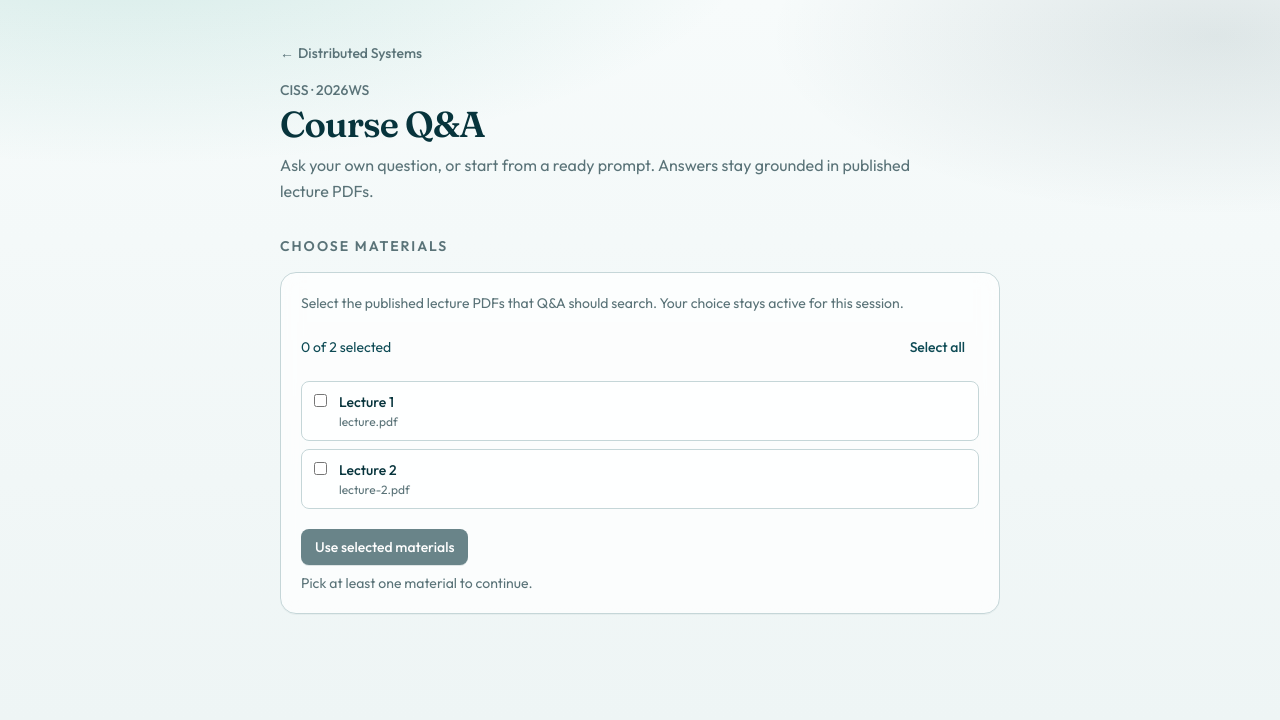
course Q&A page › keeps the current Q&A material selection when changing materials
Click the checkbox labelled "Lecture 1 lecture.pdf".
click(320, 400)  # box left=314, top=394, right=327, bottom=407
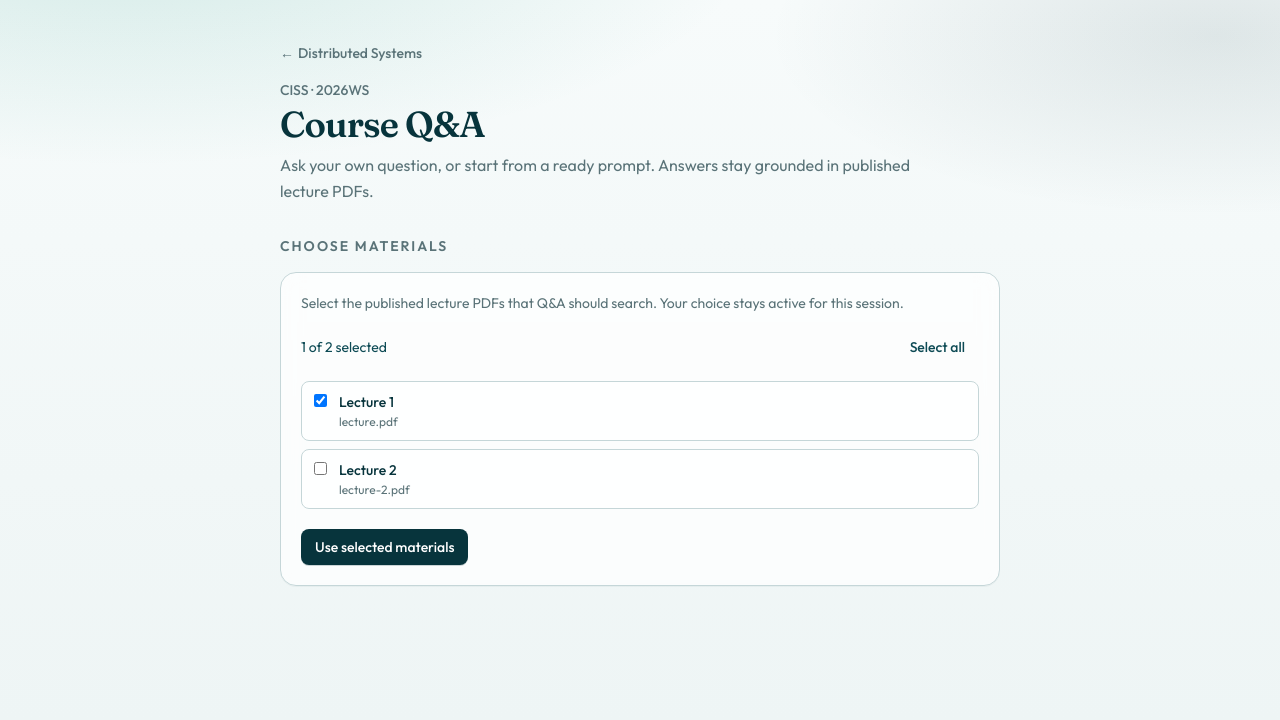
Click the button "Use selected materials".
click(385, 547)  # box left=301, top=529, right=468, bottom=565
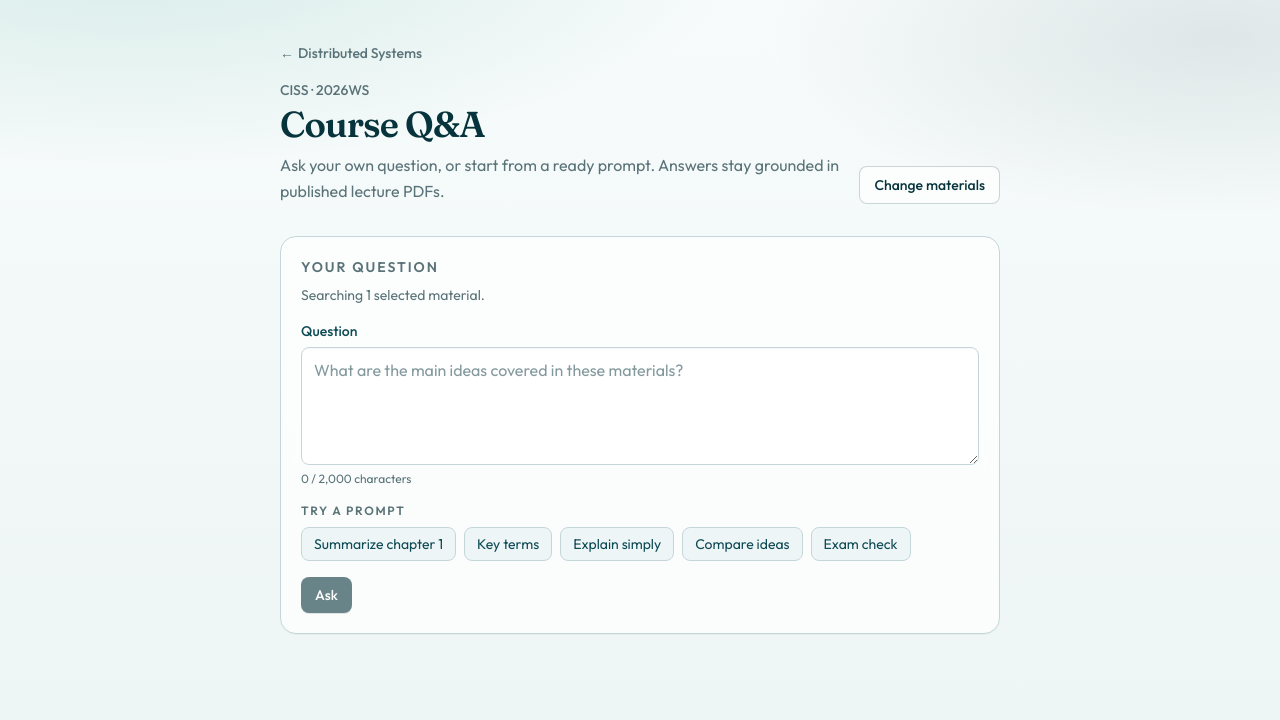
Expected: the text "Searching 1 selected material." is shown, left=301, top=286, right=485, bottom=304
Click the button "Change materials".
click(930, 185)  # box left=860, top=166, right=1000, bottom=204
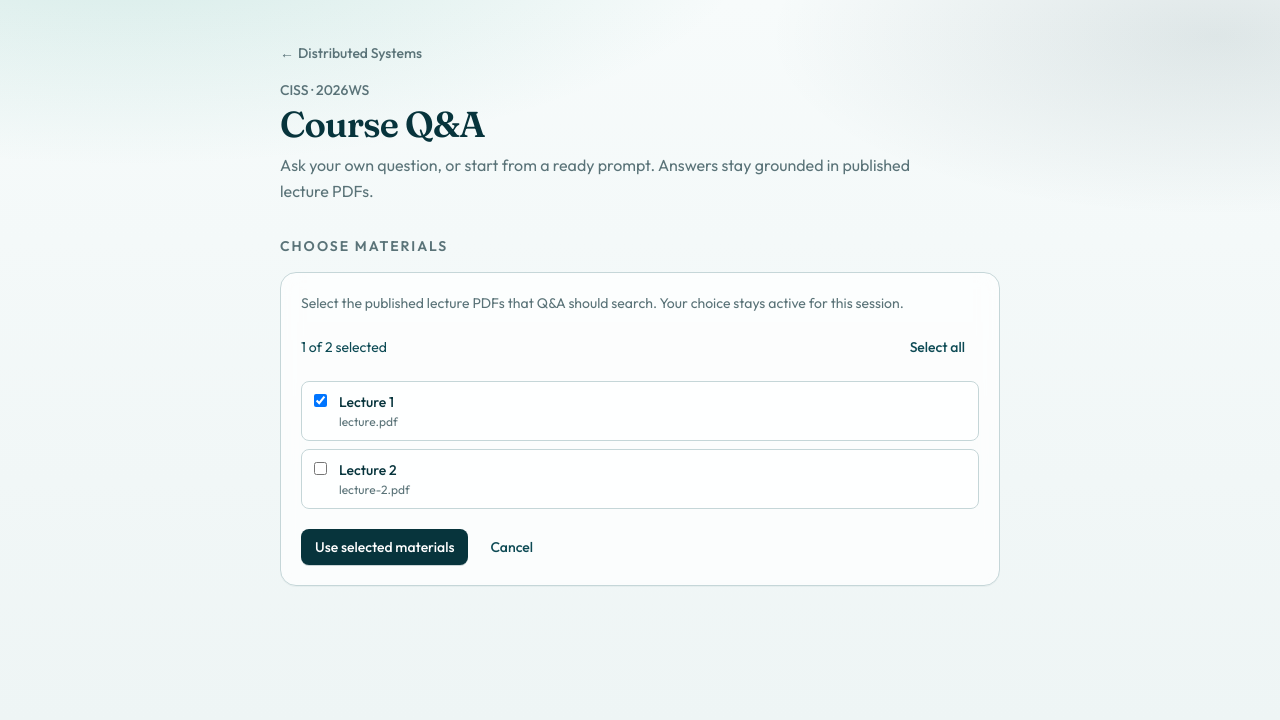
Expected: the text "1 of 2 selected" is shown, left=301, top=337, right=387, bottom=357
Expected: the checkbox labelled "Lecture 1 lecture.pdf" is checked, left=314, top=394, right=327, bottom=407
Expected: the checkbox labelled "Lecture 2 lecture-2.pdf" is not checked, left=314, top=462, right=327, bottom=475
